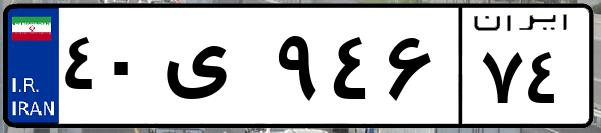0: (110, 28, 158, 98)
4: (330, 28, 385, 110), (57, 26, 110, 100), (525, 38, 570, 115)
6: (385, 28, 445, 110)
7: (475, 38, 525, 113)
9: (270, 28, 330, 110)
ی: (158, 20, 270, 120)
